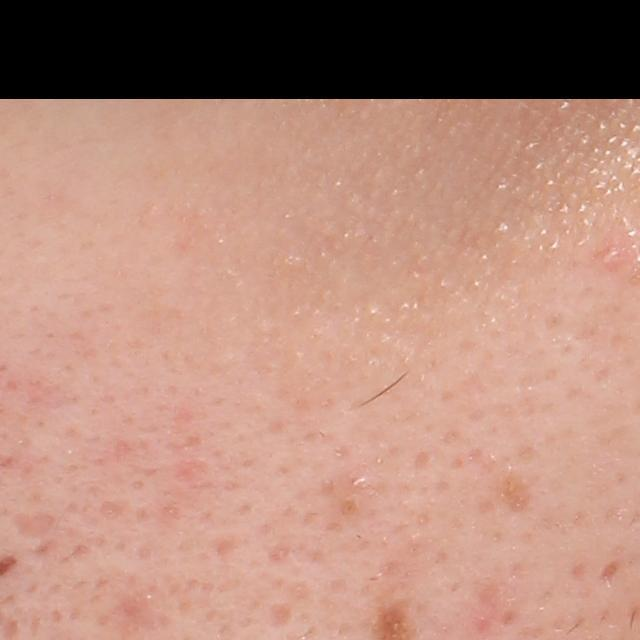atrophic_scar: (11, 511, 58, 541), (259, 595, 293, 632), (595, 555, 620, 582)
comedo: (350, 472, 369, 489)
